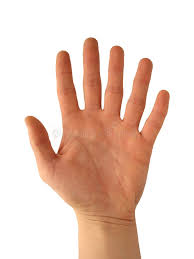hand: (20, 29, 174, 226)
